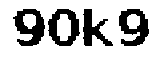0: (46, 8, 81, 48)
9: (117, 6, 152, 51), (12, 5, 45, 51)
k: (81, 6, 114, 51)
